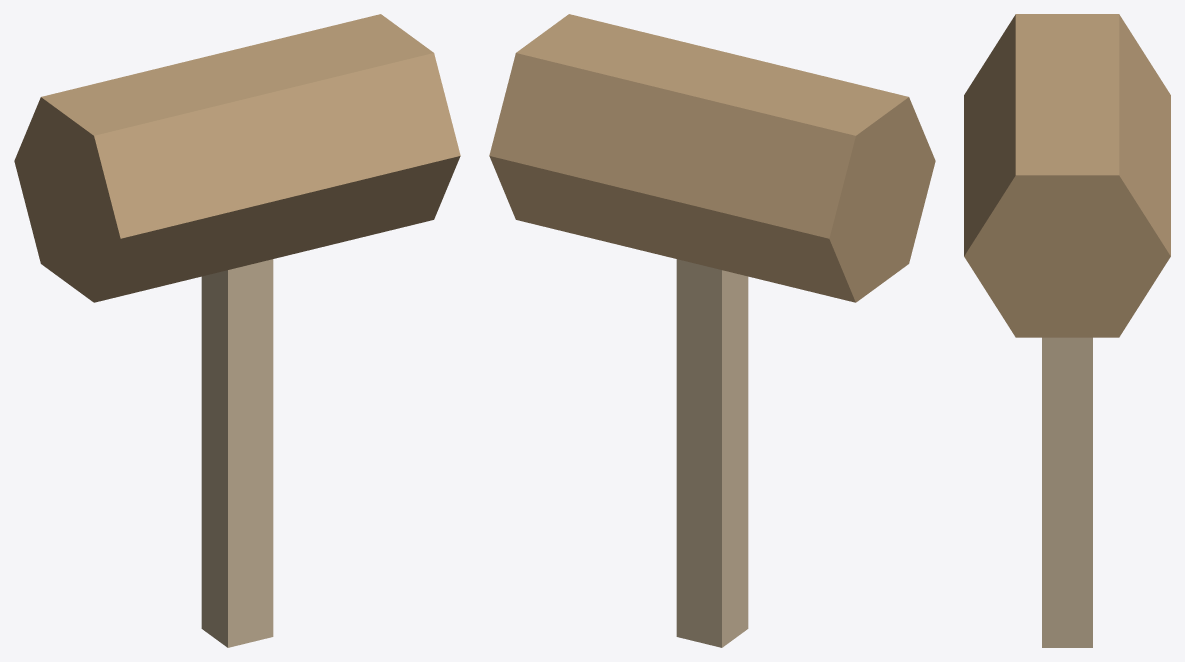
File: prop-froe-mallet-fr1.fbx
The picture shows the model from 3 angles, left to right: view 1: azimuth 30°, elevation 25°; view 2: azimuth 150°, elevation 25°; view 3: azimuth 270°, elevation 25°; orthographic projection. The views are drawn at different scales.
Visible parts, largest first — view 1: prop-froe-mallet-fr1; view 2: prop-froe-mallet-fr1; view 3: prop-froe-mallet-fr1.
Part boxes in pixels (x1,y1,x2,y2): prop-froe-mallet-fr1: [14, 14, 460, 647]; prop-froe-mallet-fr1: [489, 14, 935, 647]; prop-froe-mallet-fr1: [964, 14, 1170, 647].
Size of the model in its own units: 24 by 37.63 by 13.
